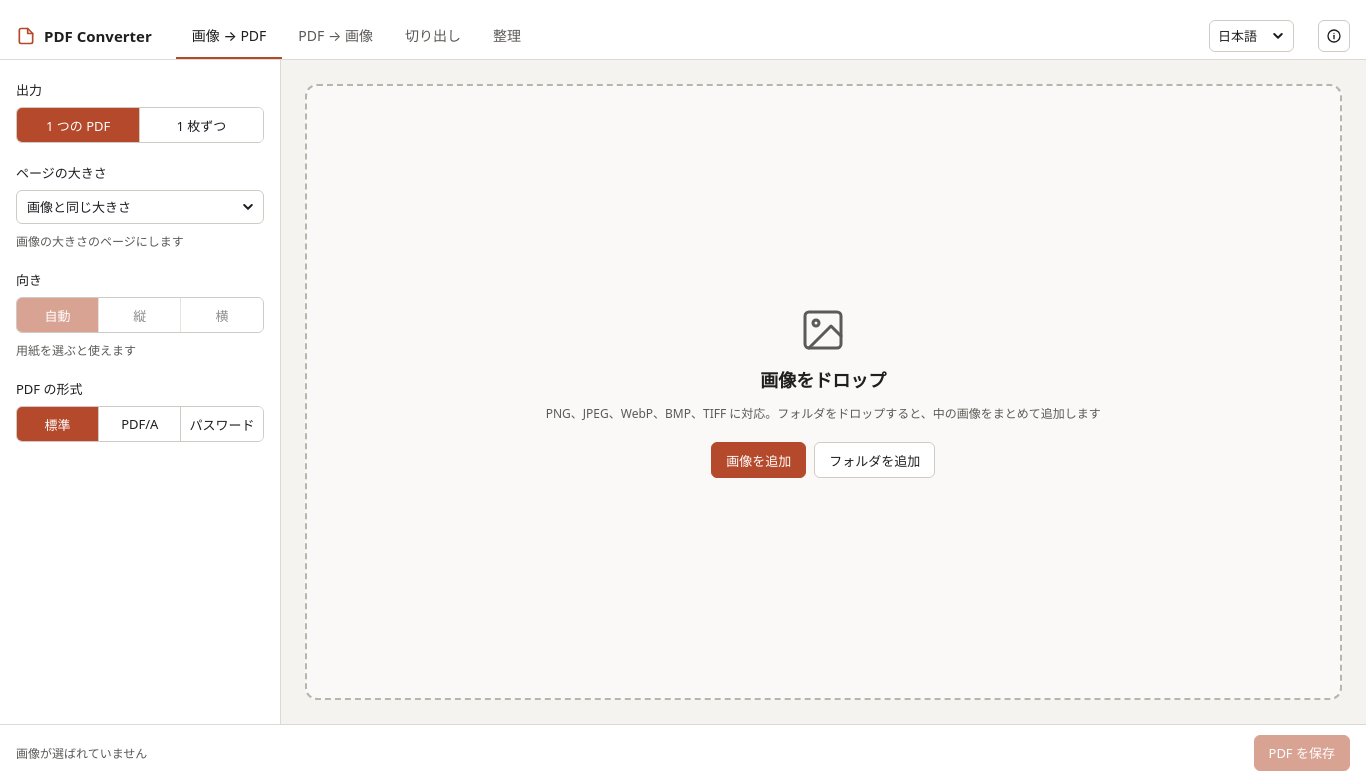
selecting pages with the pointer › keeps the band's buttons, pressed in while nothing is selected
Click the tab "整理": click(507, 36) [477,12,537,59]
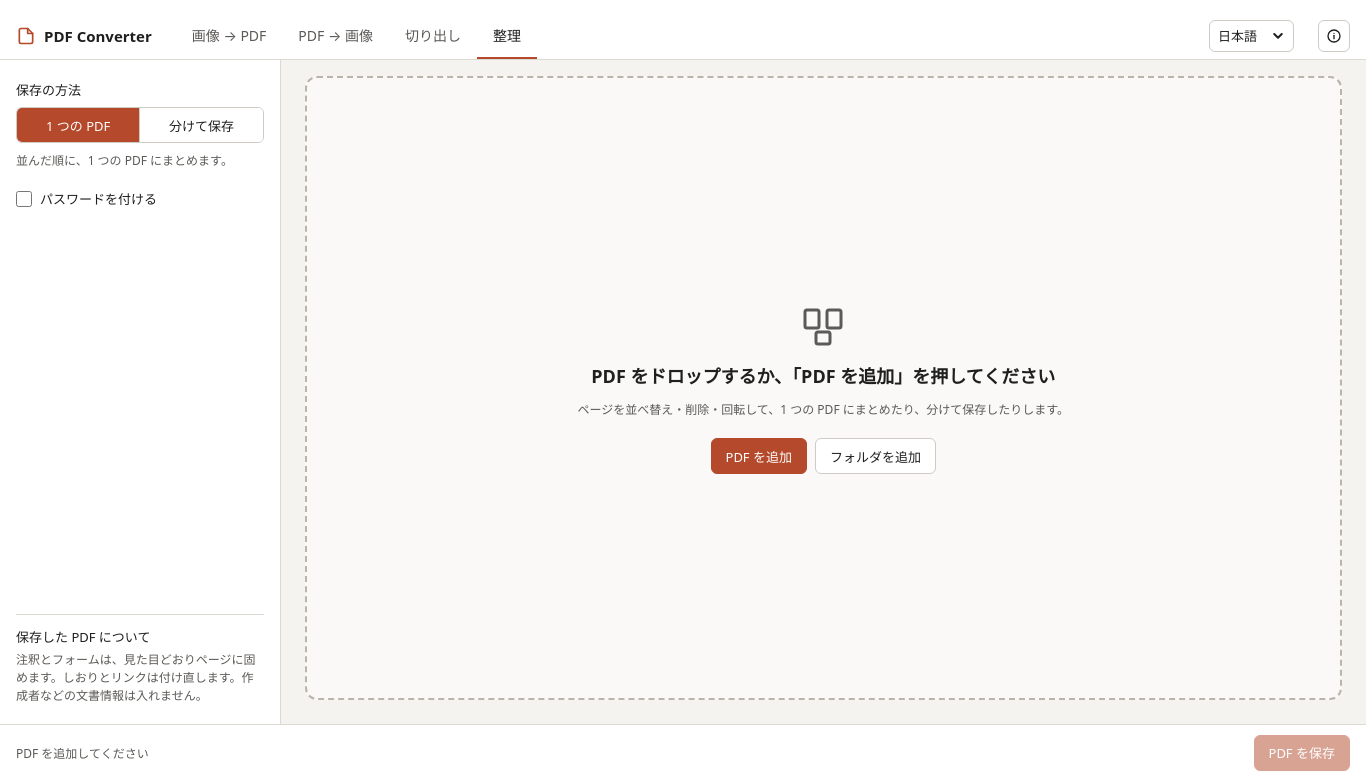
Click the button "PDF を追加": click(759, 456) [710,438,807,474]
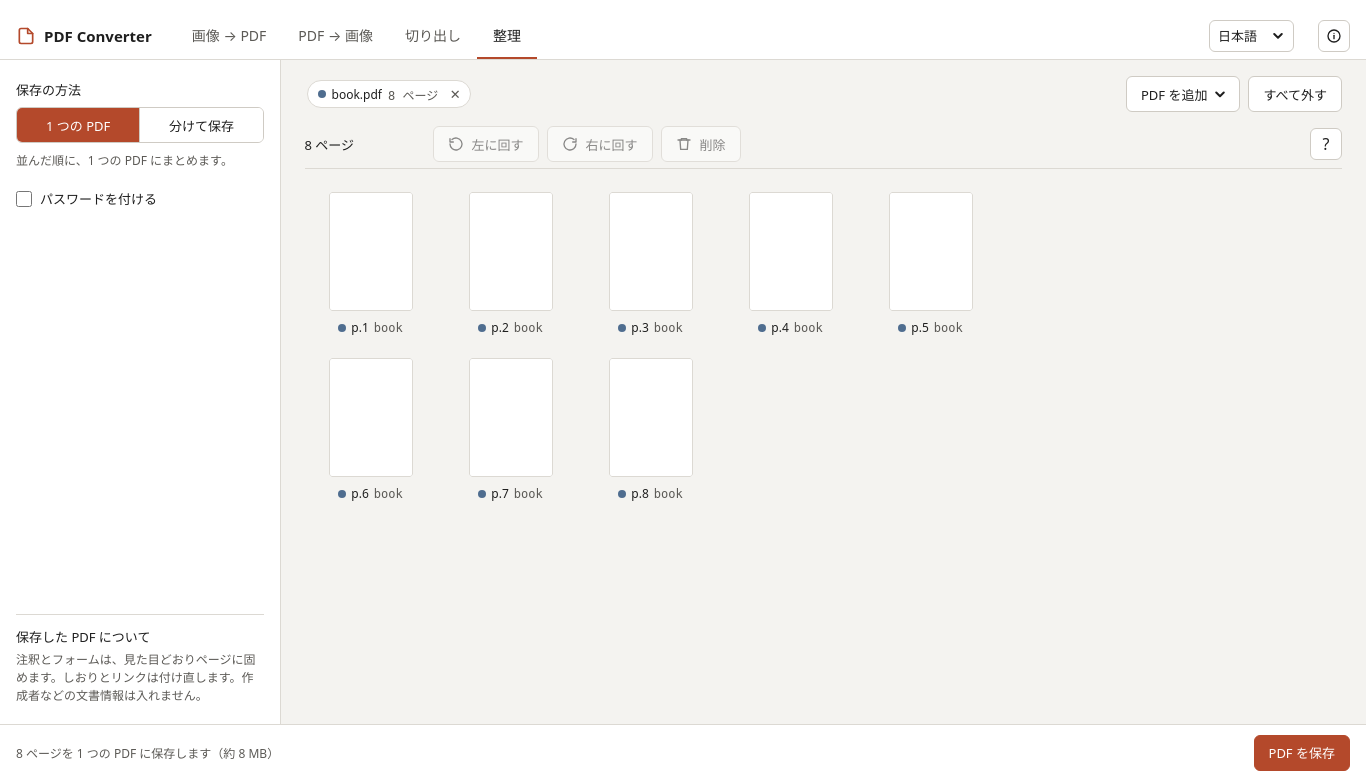
Expected: the button "削除" is disabled, [661,126,741,162]
Expected: the button "左に回す" is disabled, [432,126,538,162]
Expected: the button "右に回す" is disabled, [546,126,652,162]
Press the mouse on the option "p.2 book": (510, 264) [468,192,552,336]
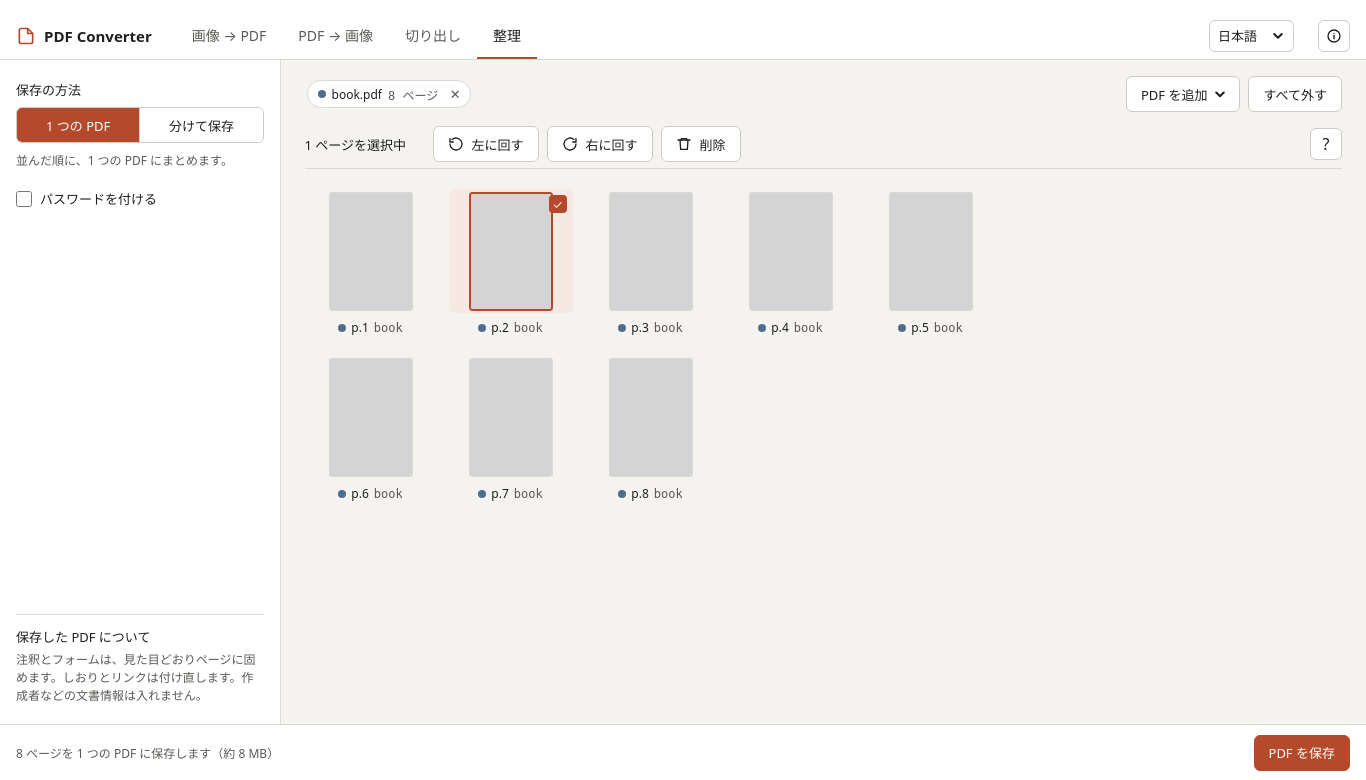
Expected: the button "左に回す" is enabled, [432,126,538,162]
Expected: the button "右に回す" is enabled, [546,126,652,162]
Expected: the button "削除" is enabled, [661,126,741,162]
